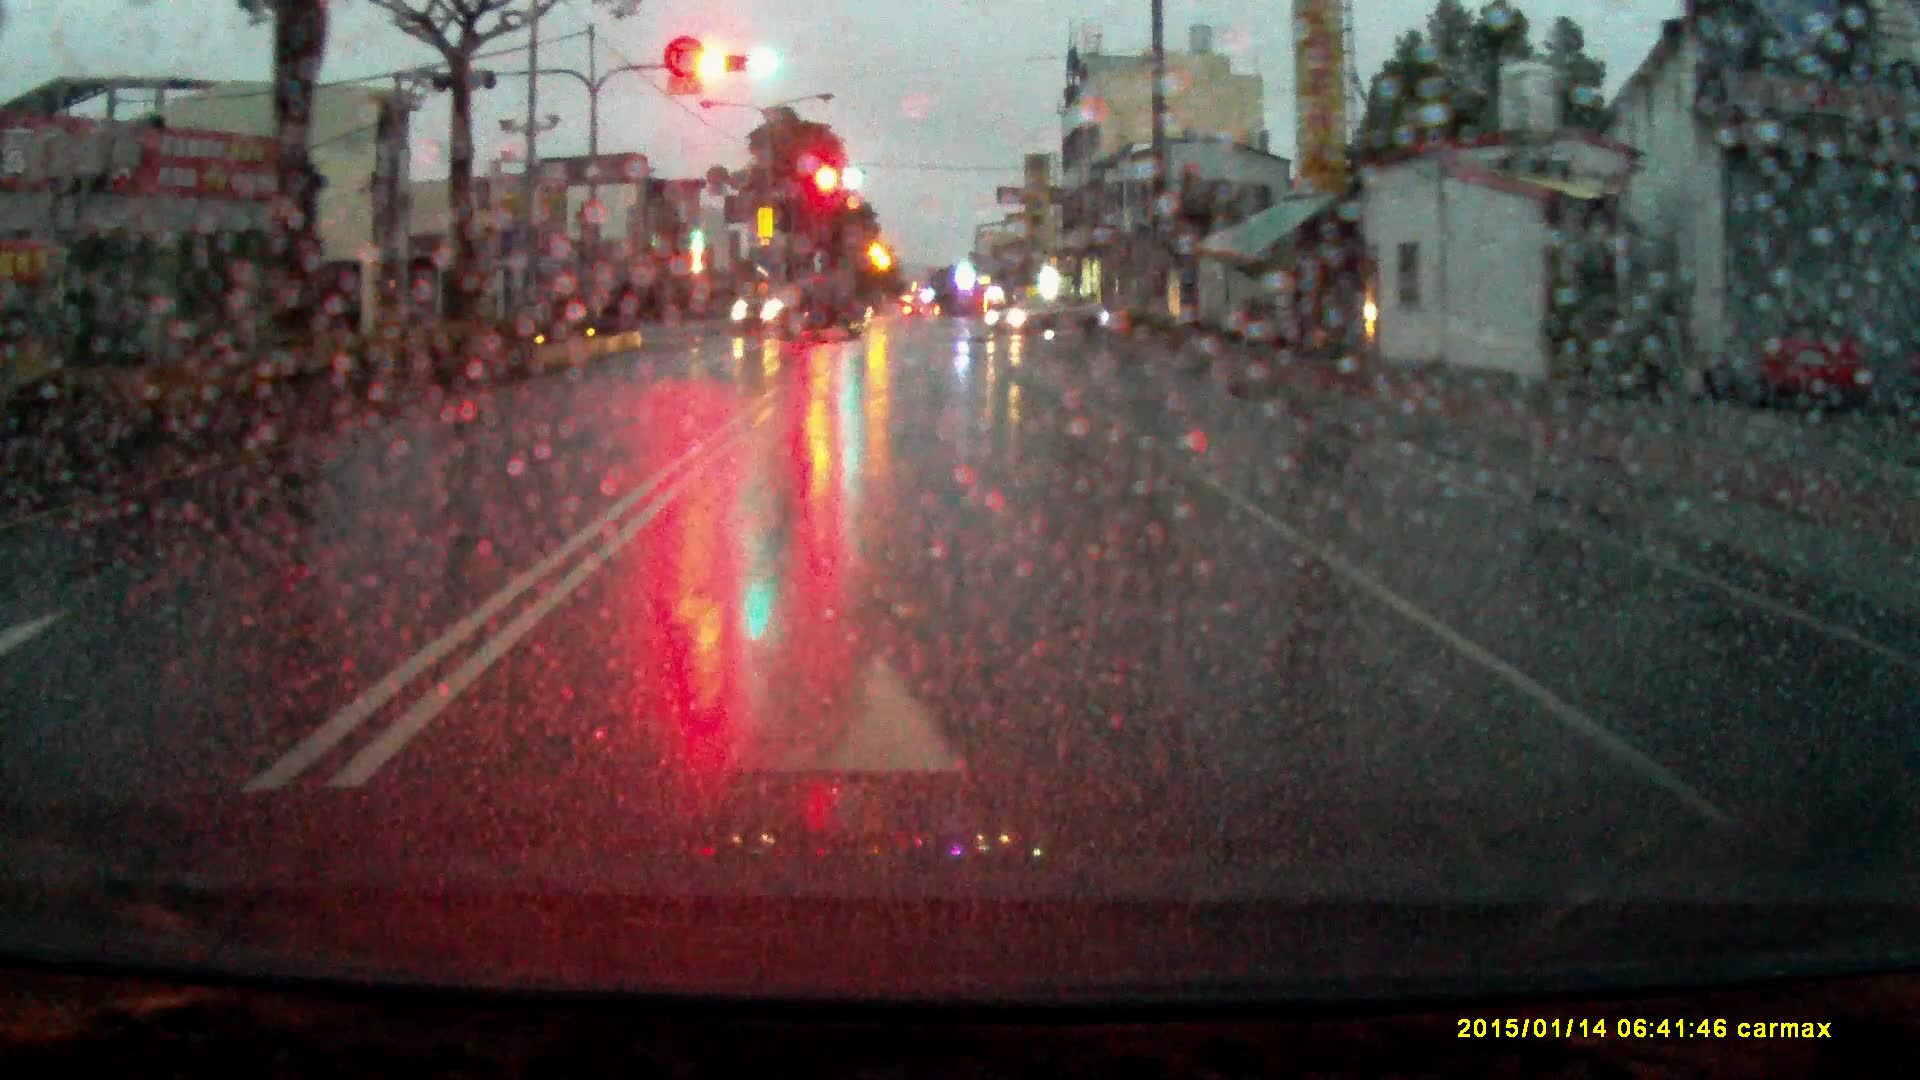vehicle: (731, 274, 876, 345), (986, 295, 1113, 342)
